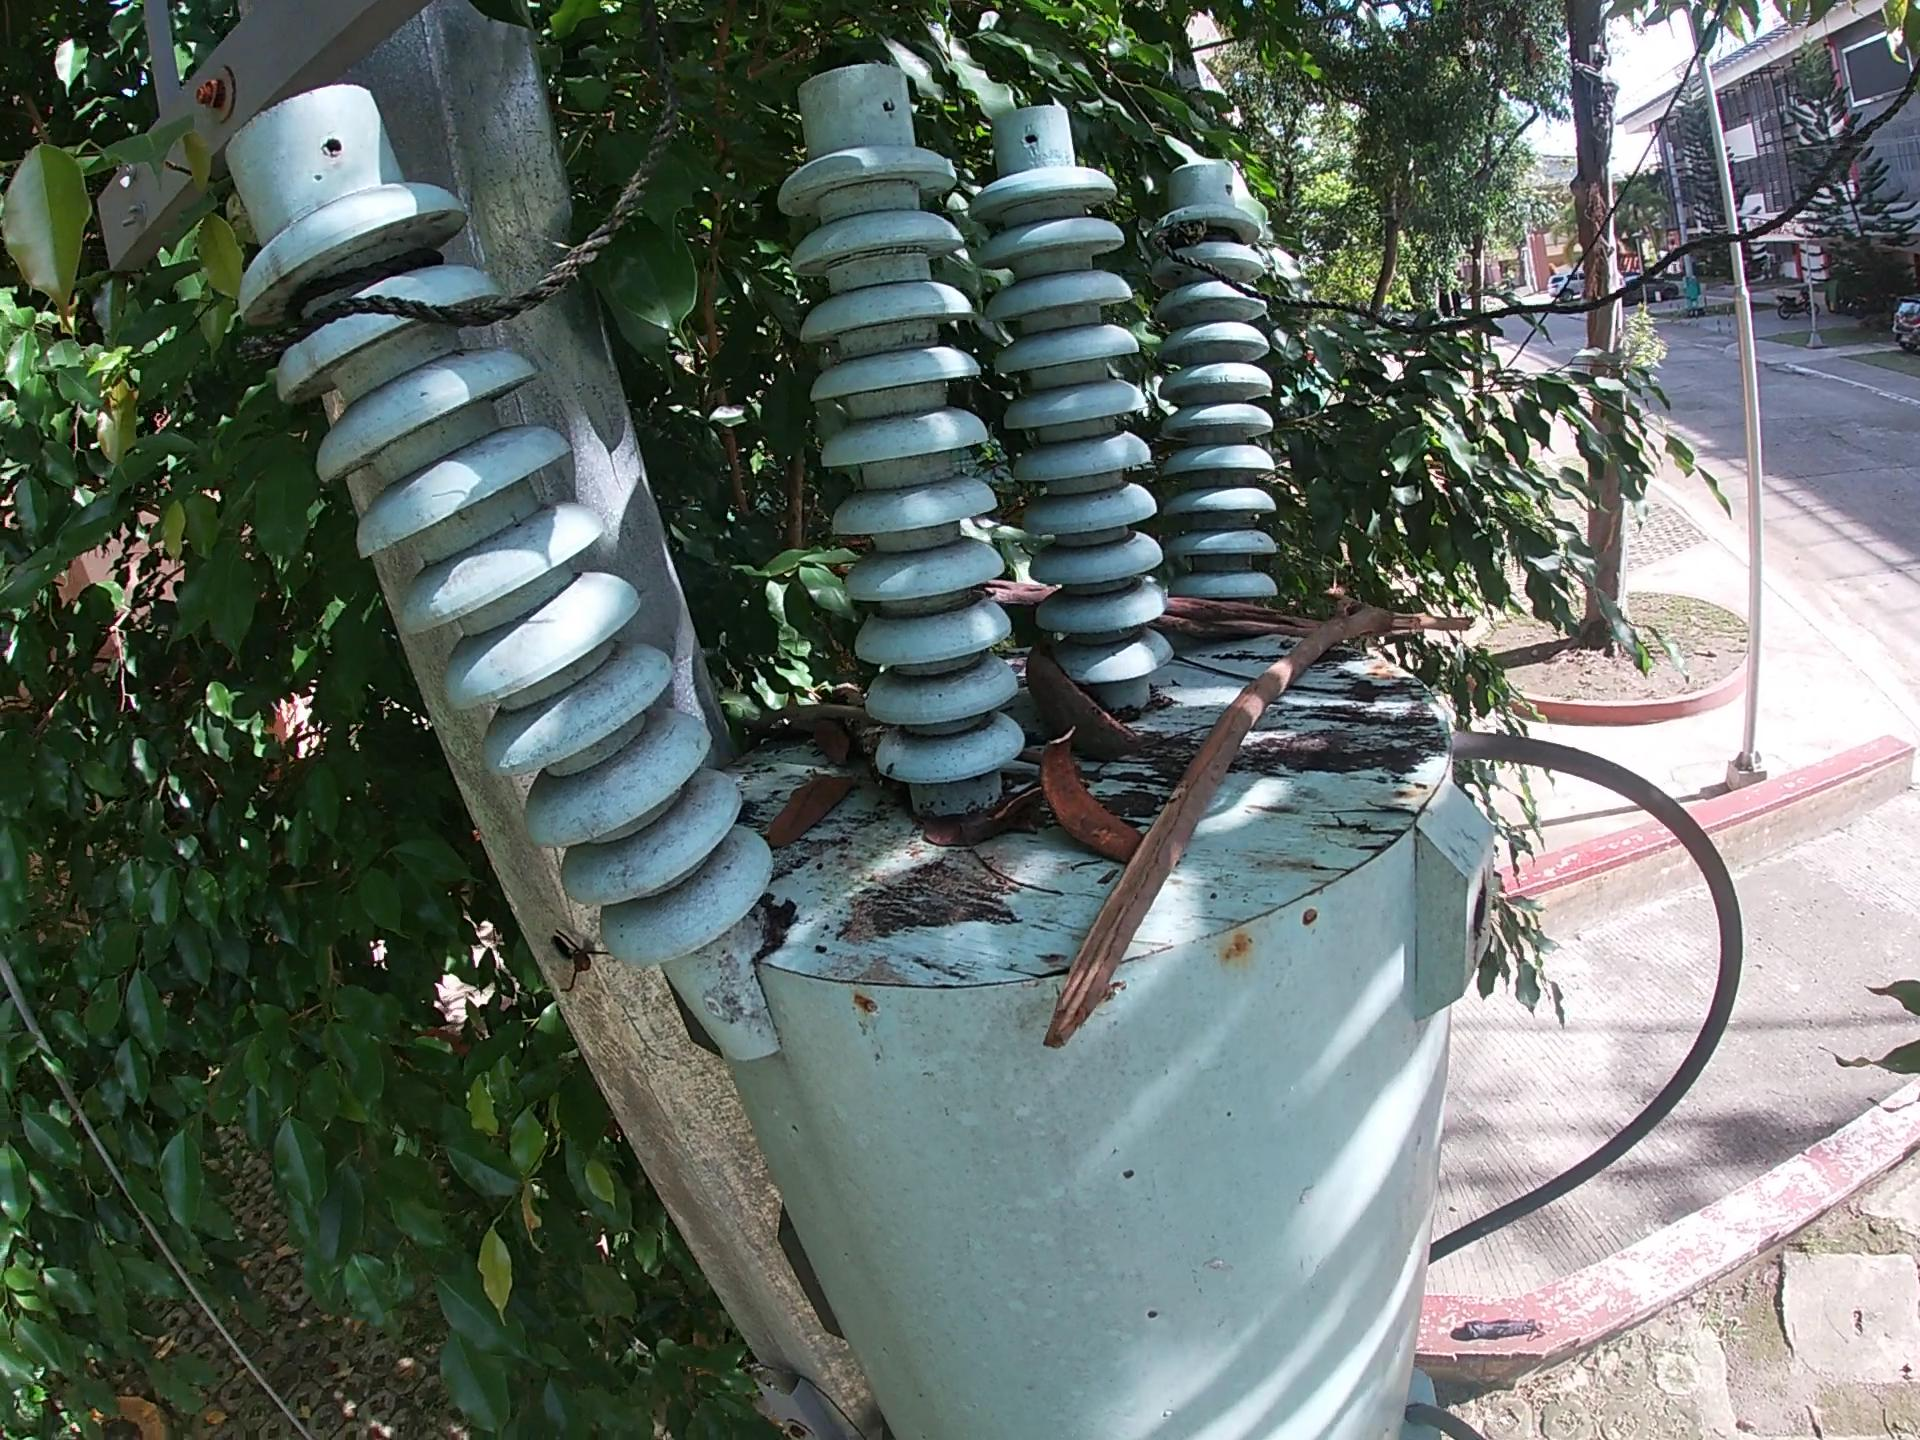leaf: (760, 774, 862, 855), (906, 809, 984, 846), (822, 720, 856, 771)
mahogany fruit: (1023, 638, 1132, 761), (1045, 725, 1141, 861)
tree branch: (1027, 597, 1494, 1068), (1160, 591, 1332, 646), (833, 676, 909, 796), (969, 846, 1073, 897), (989, 570, 1051, 619), (989, 782, 1039, 838), (1164, 653, 1250, 681), (759, 700, 868, 715), (1293, 685, 1423, 691), (838, 557, 856, 573)
